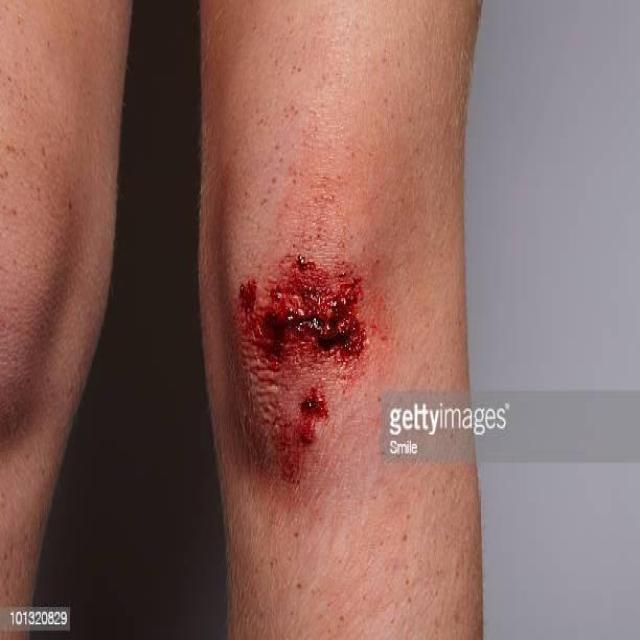flood: (226, 238, 394, 464)
